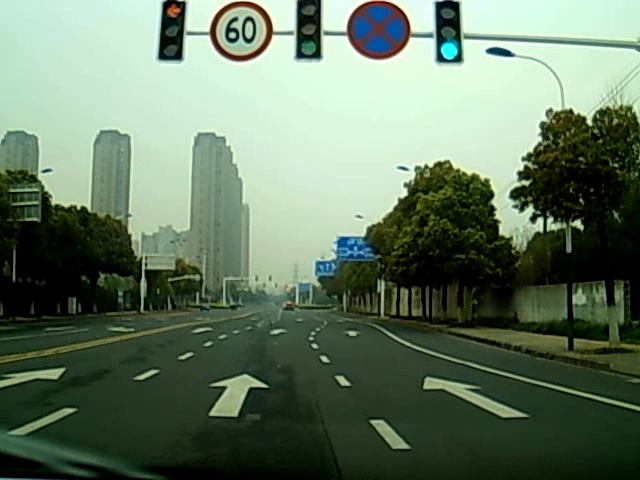Traffic_Light_go: (433, 4, 464, 67), (298, 2, 320, 60)
Traffic_Light_stop: (160, 1, 183, 62)
